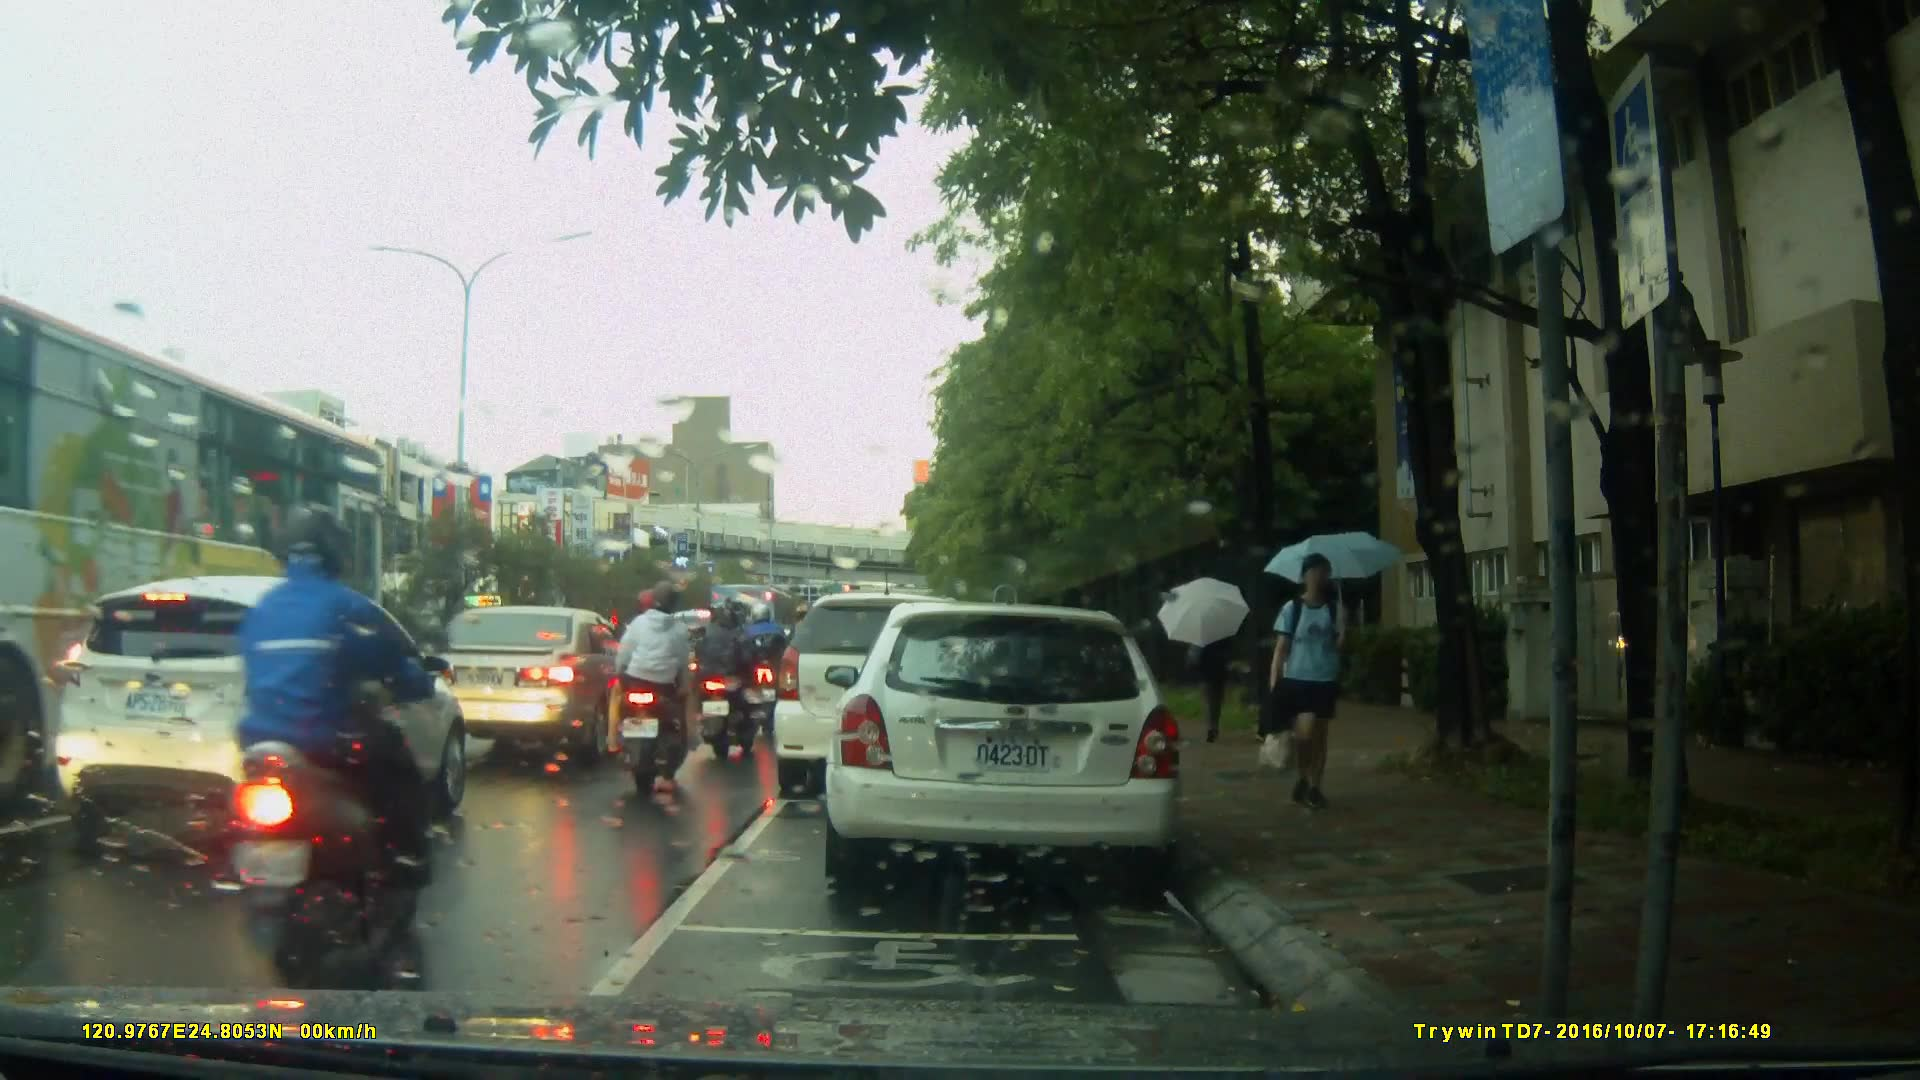pedestrian: (1249, 552, 1354, 819), (1189, 601, 1239, 737)
rider: (193, 505, 451, 966), (619, 586, 702, 801), (695, 596, 748, 765), (737, 598, 794, 743)
vehicle: (1, 292, 395, 775), (54, 573, 472, 872), (835, 594, 1194, 898), (776, 590, 1026, 784), (390, 603, 646, 764), (603, 619, 728, 715), (708, 582, 801, 672)
